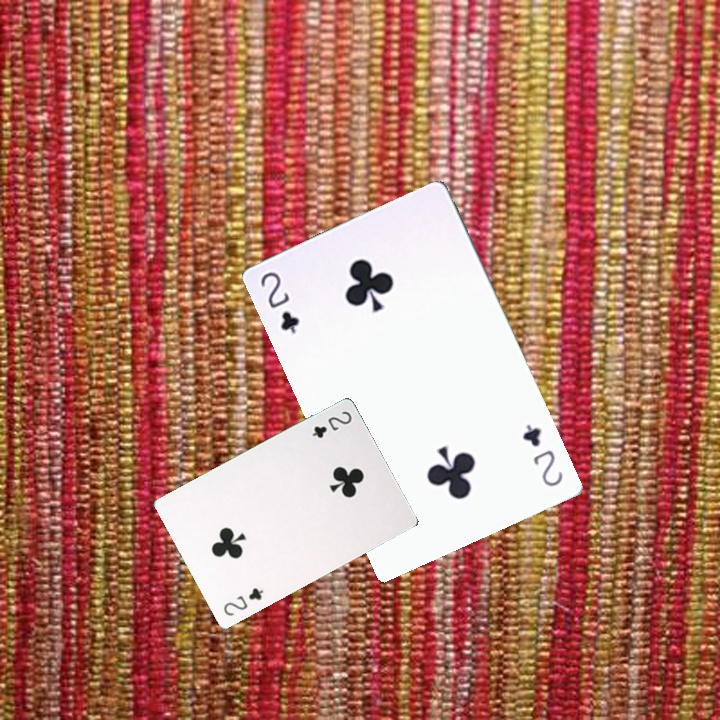2c: (518, 420, 566, 490), (256, 267, 302, 337), (219, 584, 266, 619), (308, 407, 355, 441)
